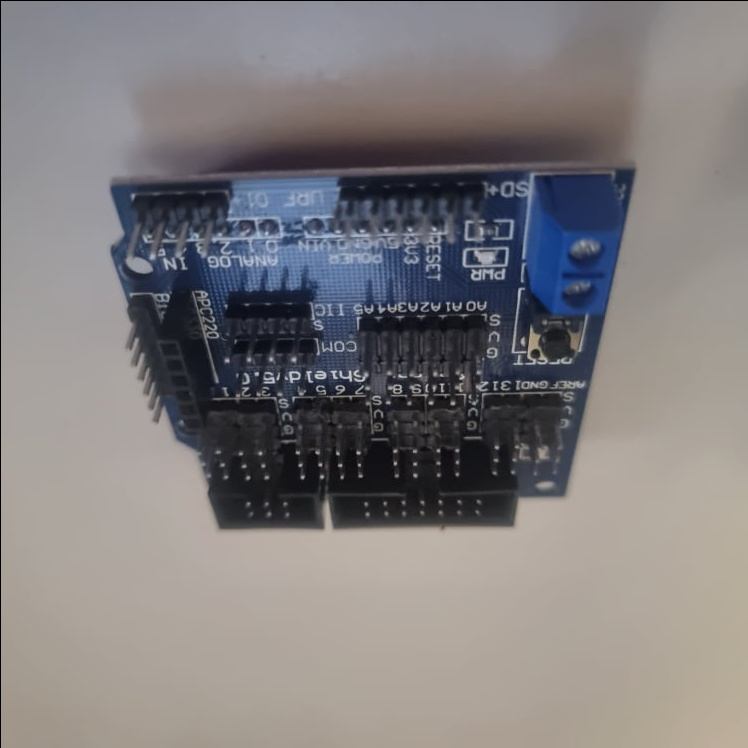5V EXPANSION: (103, 171, 635, 538)
